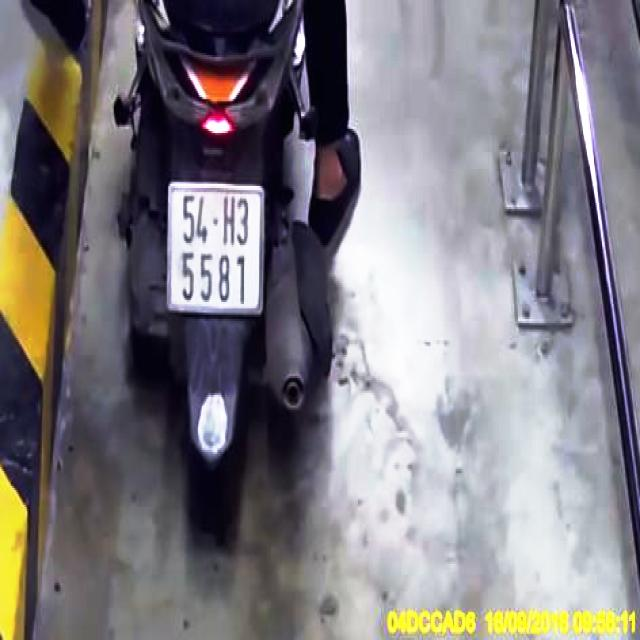license_plate: (167, 188, 266, 318)
